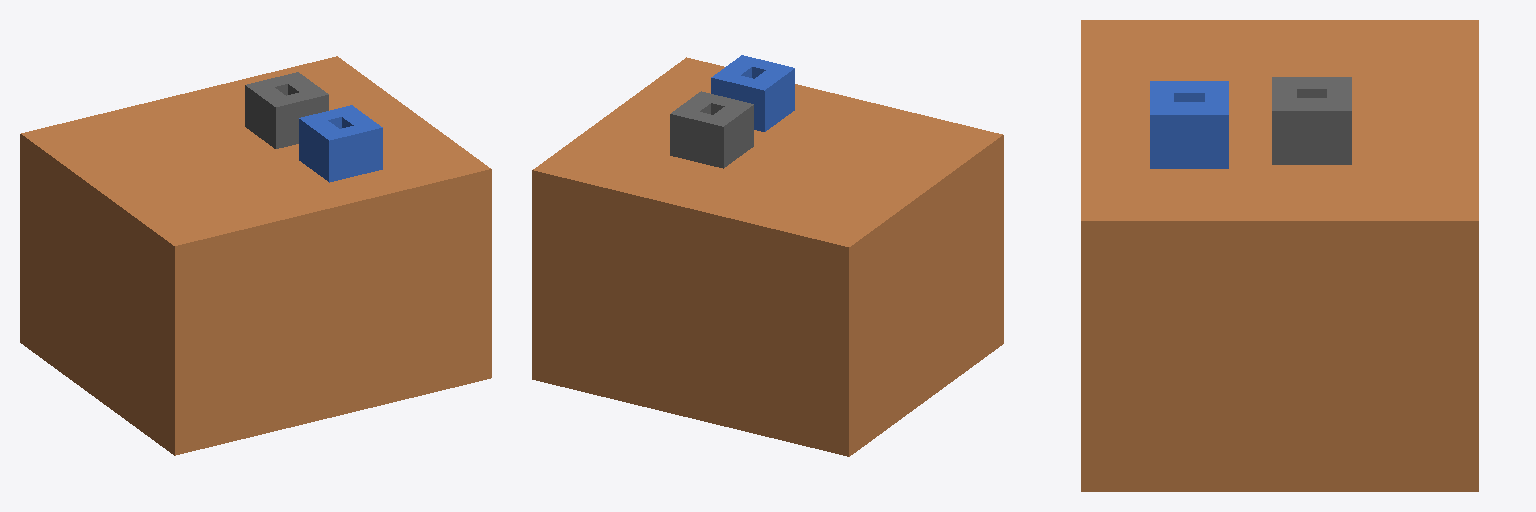
URDF robot description (peg_in_hole_fixtured_scene_0003_peg0012_tol01):
<?xml version="1.0"?>
<robot name="peg_in_hole_fixtured_scene_0003_peg0012_tol01">
  <material name="wood"><color rgba="0.82 0.56 0.35 1.0"/></material>
  <material name="start_fix"><color rgba="0.30 0.50 0.85 1.0"/></material>
  <material name="goal_fix"><color rgba="0.4706 0.4706 0.4706 1.0"/></material>
  <link name="box">
    <visual>
      <origin xyz="0.000000 0.000000 0.000000" rpy="0 0 0"/>
      <geometry><box size="0.475000 0.400000 0.300000"/></geometry>
      <material name="wood"/>
    </visual>
    <collision>
      <origin xyz="0.000000 0.000000 0.000000" rpy="0 0 0"/>
      <geometry><box size="0.475000 0.400000 0.300000"/></geometry>
    </collision>
    <visual>
      <origin xyz="0.074467 -0.090930 0.155000" rpy="0 0 0"/>
      <geometry><box size="0.080000 0.080000 0.010000"/></geometry>
      <material name="start_fix"/>
    </visual>
    <collision>
      <origin xyz="0.074467 -0.090930 0.155000" rpy="0 0 0"/>
      <geometry><box size="0.080000 0.080000 0.010000"/></geometry>
    </collision>
    <visual>
      <origin xyz="0.099717 -0.090930 0.185000" rpy="0 0 0"/>
      <geometry><box size="0.029500 0.080000 0.050000"/></geometry>
      <material name="start_fix"/>
    </visual>
    <collision>
      <origin xyz="0.099717 -0.090930 0.185000" rpy="0 0 0"/>
      <geometry><box size="0.029500 0.080000 0.050000"/></geometry>
    </collision>
    <visual>
      <origin xyz="0.049217 -0.090930 0.185000" rpy="0 0 0"/>
      <geometry><box size="0.029500 0.080000 0.050000"/></geometry>
      <material name="start_fix"/>
    </visual>
    <collision>
      <origin xyz="0.049217 -0.090930 0.185000" rpy="0 0 0"/>
      <geometry><box size="0.029500 0.080000 0.050000"/></geometry>
    </collision>
    <visual>
      <origin xyz="0.074467 -0.063180 0.185000" rpy="0 0 0"/>
      <geometry><box size="0.021000 0.024500 0.050000"/></geometry>
      <material name="start_fix"/>
    </visual>
    <collision>
      <origin xyz="0.074467 -0.063180 0.185000" rpy="0 0 0"/>
      <geometry><box size="0.021000 0.024500 0.050000"/></geometry>
    </collision>
    <visual>
      <origin xyz="0.074467 -0.118680 0.185000" rpy="0 0 0"/>
      <geometry><box size="0.021000 0.024500 0.050000"/></geometry>
      <material name="start_fix"/>
    </visual>
    <collision>
      <origin xyz="0.074467 -0.118680 0.185000" rpy="0 0 0"/>
      <geometry><box size="0.021000 0.024500 0.050000"/></geometry>
    </collision>
    <visual>
      <origin xyz="0.065025 0.032130 0.155000" rpy="0 0 0"/>
      <geometry><box size="0.080000 0.080000 0.010000"/></geometry>
      <material name="goal_fix"/>
    </visual>
    <collision>
      <origin xyz="0.065025 0.032130 0.155000" rpy="0 0 0"/>
      <geometry><box size="0.080000 0.080000 0.010000"/></geometry>
    </collision>
    <visual>
      <origin xyz="0.090168 0.032130 0.185000" rpy="0 0 0"/>
      <geometry><box size="0.029715 0.080000 0.050000"/></geometry>
      <material name="goal_fix"/>
    </visual>
    <collision>
      <origin xyz="0.090168 0.032130 0.185000" rpy="0 0 0"/>
      <geometry><box size="0.029715 0.080000 0.050000"/></geometry>
    </collision>
    <visual>
      <origin xyz="0.039883 0.032130 0.185000" rpy="0 0 0"/>
      <geometry><box size="0.029715 0.080000 0.050000"/></geometry>
      <material name="goal_fix"/>
    </visual>
    <collision>
      <origin xyz="0.039883 0.032130 0.185000" rpy="0 0 0"/>
      <geometry><box size="0.029715 0.080000 0.050000"/></geometry>
    </collision>
    <visual>
      <origin xyz="0.065025 0.059772 0.185000" rpy="0 0 0"/>
      <geometry><box size="0.020569 0.024715 0.050000"/></geometry>
      <material name="goal_fix"/>
    </visual>
    <collision>
      <origin xyz="0.065025 0.059772 0.185000" rpy="0 0 0"/>
      <geometry><box size="0.020569 0.024715 0.050000"/></geometry>
    </collision>
    <visual>
      <origin xyz="0.065025 0.004488 0.185000" rpy="0 0 0"/>
      <geometry><box size="0.020569 0.024715 0.050000"/></geometry>
      <material name="goal_fix"/>
    </visual>
    <collision>
      <origin xyz="0.065025 0.004488 0.185000" rpy="0 0 0"/>
      <geometry><box size="0.020569 0.024715 0.050000"/></geometry>
    </collision>
    <inertial>
      <mass value="500"/>
      <friction value="1.0"/>
      <inertia ixx="1000.0" ixy="0.0" ixz="0.0" iyy="1000.0" iyz="0.0" izz="1000.0"/>
    </inertial>
  </link>
</robot>

--- Facts derived from the render (not from the file) ---
Views: 3 orthographic renders of the robot side by side, from view 1: azimuth 30°, elevation 25°; view 2: azimuth 150°, elevation 25°; view 3: azimuth 270°, elevation 25°.
Model peg_in_hole_fixtured_scene_0003_peg0012_tol01 with 1 links and 0 joints (none), rooted at box, posed all joints at 0.
Visible links, largest first — view 1: box; view 2: box; view 3: box.
Link boxes in pixels (<box>): box: <box>20,56,491,455</box>; box: <box>532,55,1003,456</box>; box: <box>1081,20,1478,491</box>.
Size in the robot's own frame: 0.475 by 0.4 by 0.36 metres.
Geometry: primitives only (box / cylinder / sphere), no mesh files.
